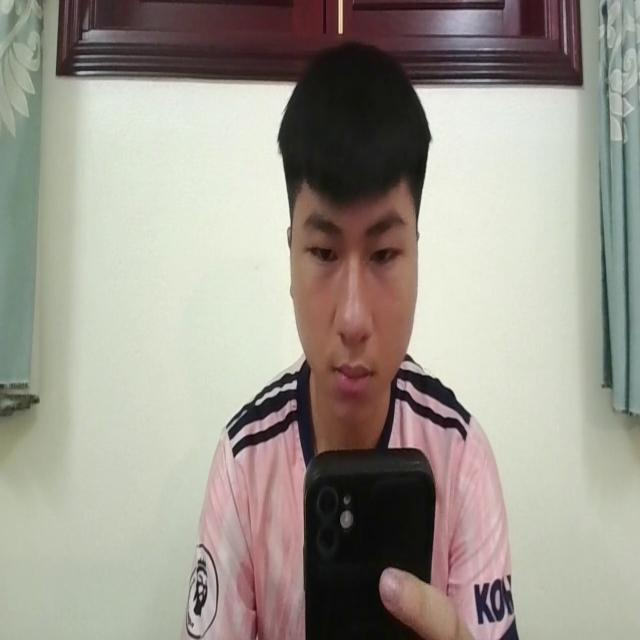phone: (294, 442, 438, 640)
student: (195, 39, 513, 640)
